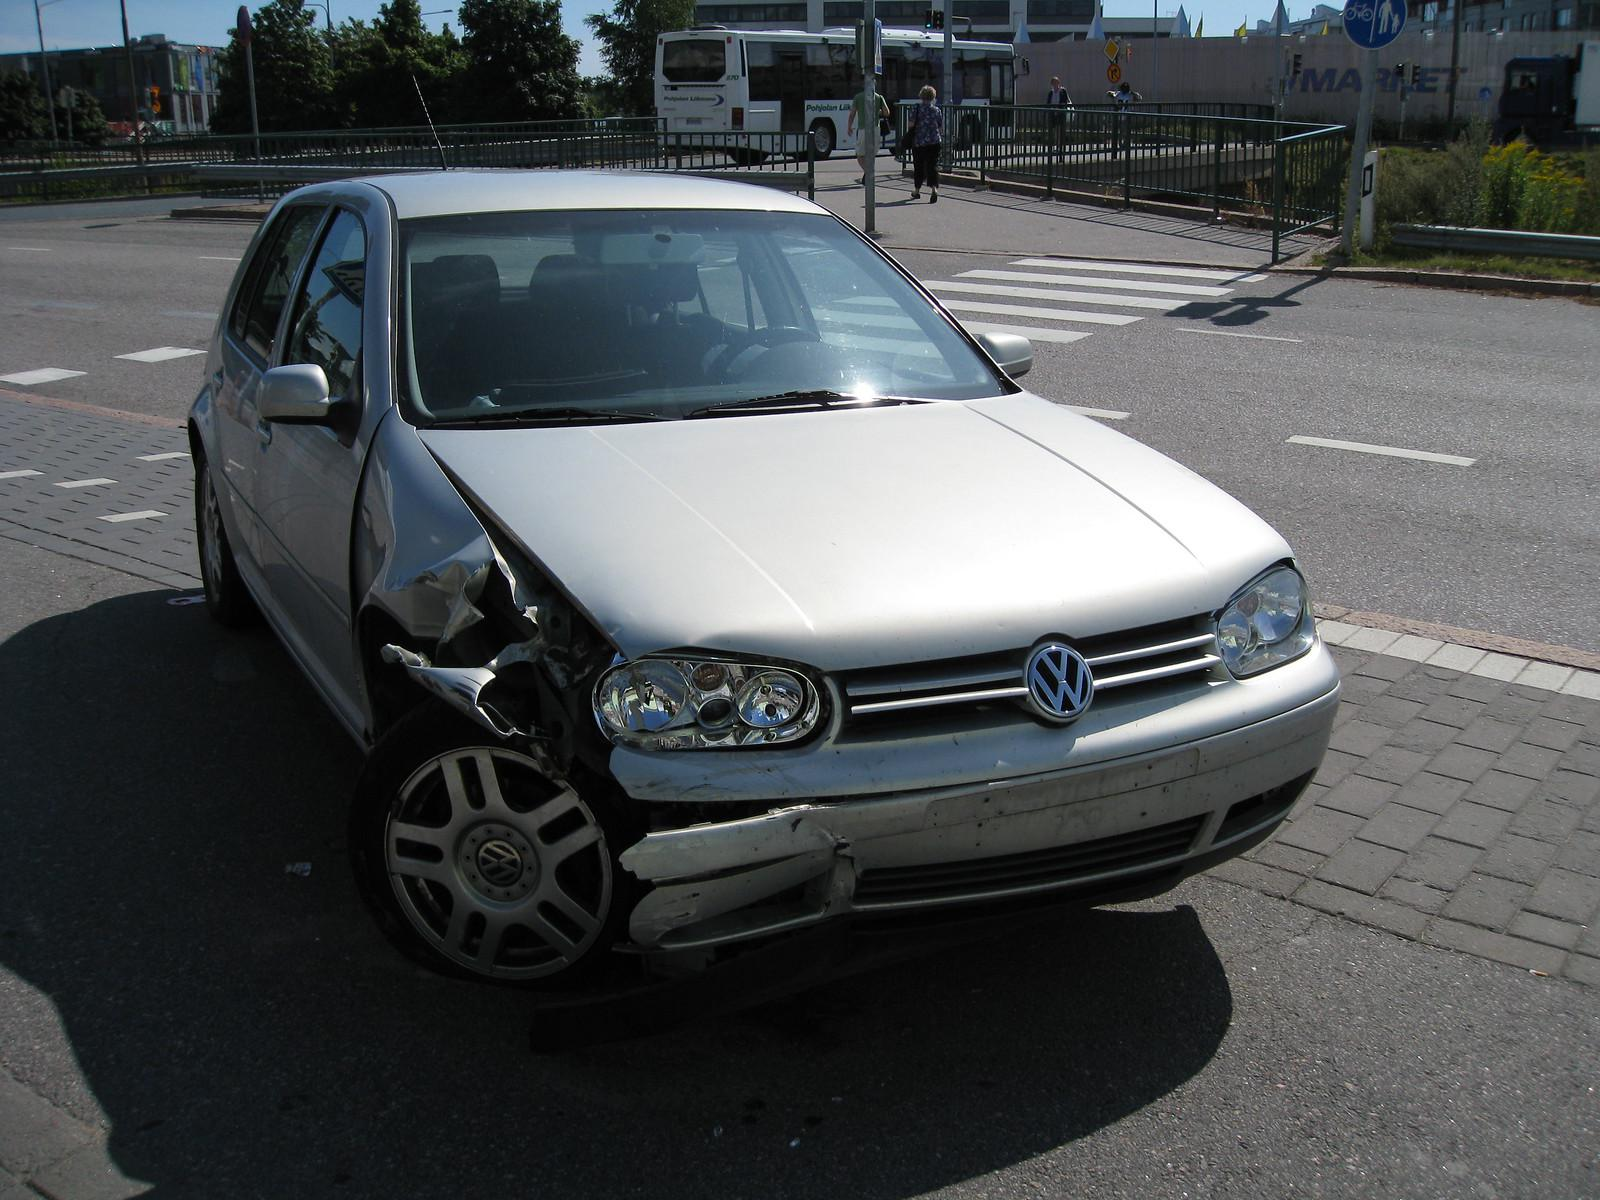fender-dent: (315, 430, 571, 726)
front-bumper-dent: (609, 753, 1247, 939)
